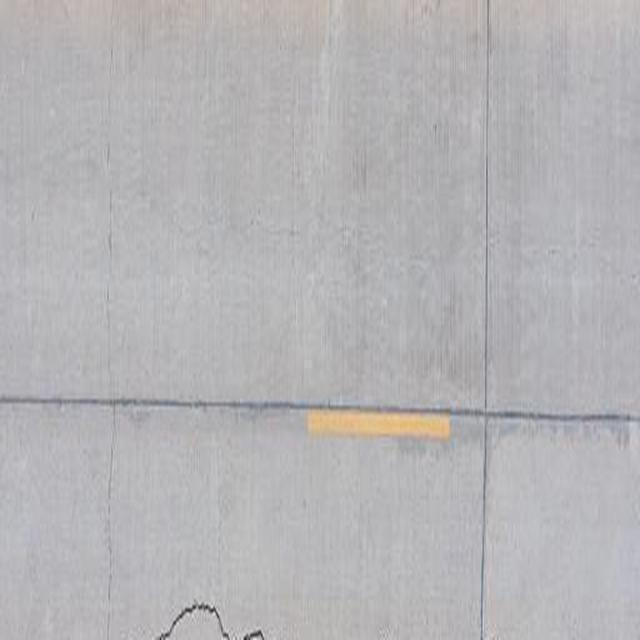minor crack: (269, 13, 404, 624), (413, 0, 468, 388), (485, 430, 537, 640), (286, 0, 305, 371), (142, 599, 258, 638)
moderate crack: (11, 397, 634, 424), (96, 24, 120, 624), (474, 19, 493, 626), (506, 415, 639, 446), (2, 394, 118, 406), (375, 621, 414, 640), (242, 634, 262, 640), (150, 634, 170, 640)
severe crack: (482, 0, 639, 420), (212, 368, 228, 640), (380, 440, 436, 457), (124, 406, 161, 424), (104, 220, 113, 281), (616, 422, 632, 449), (477, 626, 500, 638), (324, 393, 332, 412)
